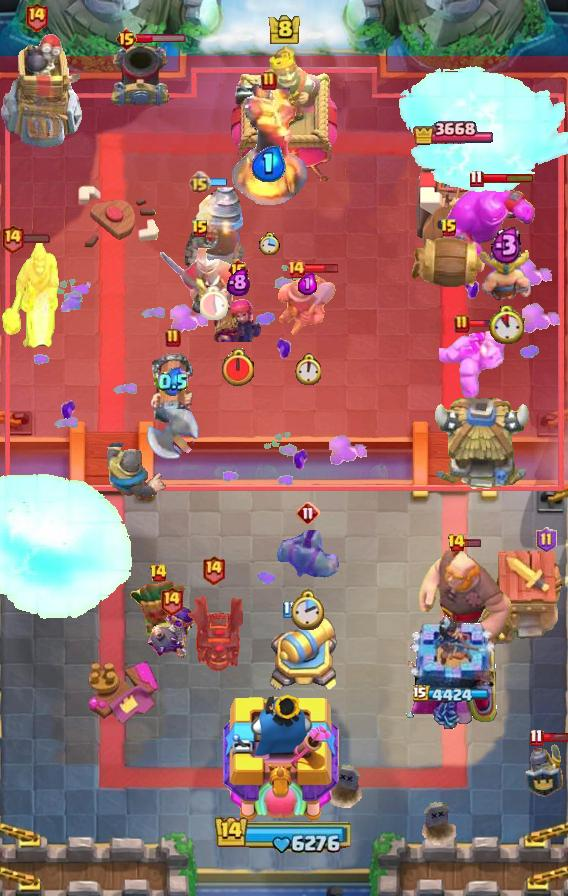archer-evolution: (183, 590, 243, 674)
balloon: (416, 547, 516, 651)
bandit: (276, 267, 338, 339)
battle-healer: (149, 349, 197, 431)
clock: (214, 814, 354, 854)
clone: (441, 183, 537, 269)
electro-dragon: (230, 81, 308, 209)
electro-spirit: (489, 225, 523, 265), (252, 146, 286, 182), (158, 367, 188, 397), (226, 268, 249, 296), (298, 273, 317, 295)
elixir: (290, 589, 325, 632), (220, 348, 256, 388), (488, 304, 524, 343), (200, 285, 230, 320), (294, 353, 321, 385), (259, 232, 280, 255)
emote: (481, 172, 534, 184), (136, 33, 187, 44), (15, 232, 51, 244), (304, 262, 339, 273), (467, 319, 501, 329), (540, 733, 567, 744), (209, 176, 228, 188), (462, 538, 482, 548)
firecracker: (106, 444, 167, 501)
flying-machine: (274, 530, 342, 586)
freeze: (0, 239, 62, 351)
goblin-ball: (146, 605, 196, 659)
goblin-barrel: (128, 578, 188, 654)
goblin-giant: (478, 250, 534, 304)
king-tower: (223, 689, 345, 826), (231, 45, 337, 181)
magic-archer: (185, 186, 245, 278)
mega-knight: (394, 63, 568, 199), (0, 473, 136, 623)
mega-minion: (210, 280, 266, 342)
musketeer: (109, 42, 171, 110)
prince: (430, 398, 532, 494)
princess: (524, 735, 566, 799)
queen-tower: (406, 614, 503, 730), (410, 144, 496, 255)
royal-giant: (147, 409, 207, 469)
royal-recruit: (264, 615, 340, 695)
selected: (413, 119, 493, 150), (413, 685, 493, 705)
sparky: (482, 550, 568, 648)
text: (23, 0, 48, 31), (202, 555, 227, 586), (160, 585, 185, 616), (0, 223, 24, 253), (114, 27, 138, 51), (296, 501, 320, 525), (189, 170, 212, 194), (226, 258, 249, 282), (536, 527, 557, 553), (286, 259, 306, 279), (446, 533, 466, 553), (148, 563, 168, 583), (440, 218, 458, 238), (191, 219, 209, 239), (261, 71, 277, 91), (454, 314, 470, 334), (165, 328, 181, 348), (282, 601, 297, 620), (469, 169, 483, 188), (529, 729, 543, 748)
the-log: (409, 234, 489, 294)
valkyrie-evolution: (439, 329, 507, 401)
wall-breaker-evolution: (158, 229, 242, 321)
zappy: (0, 31, 84, 153)
